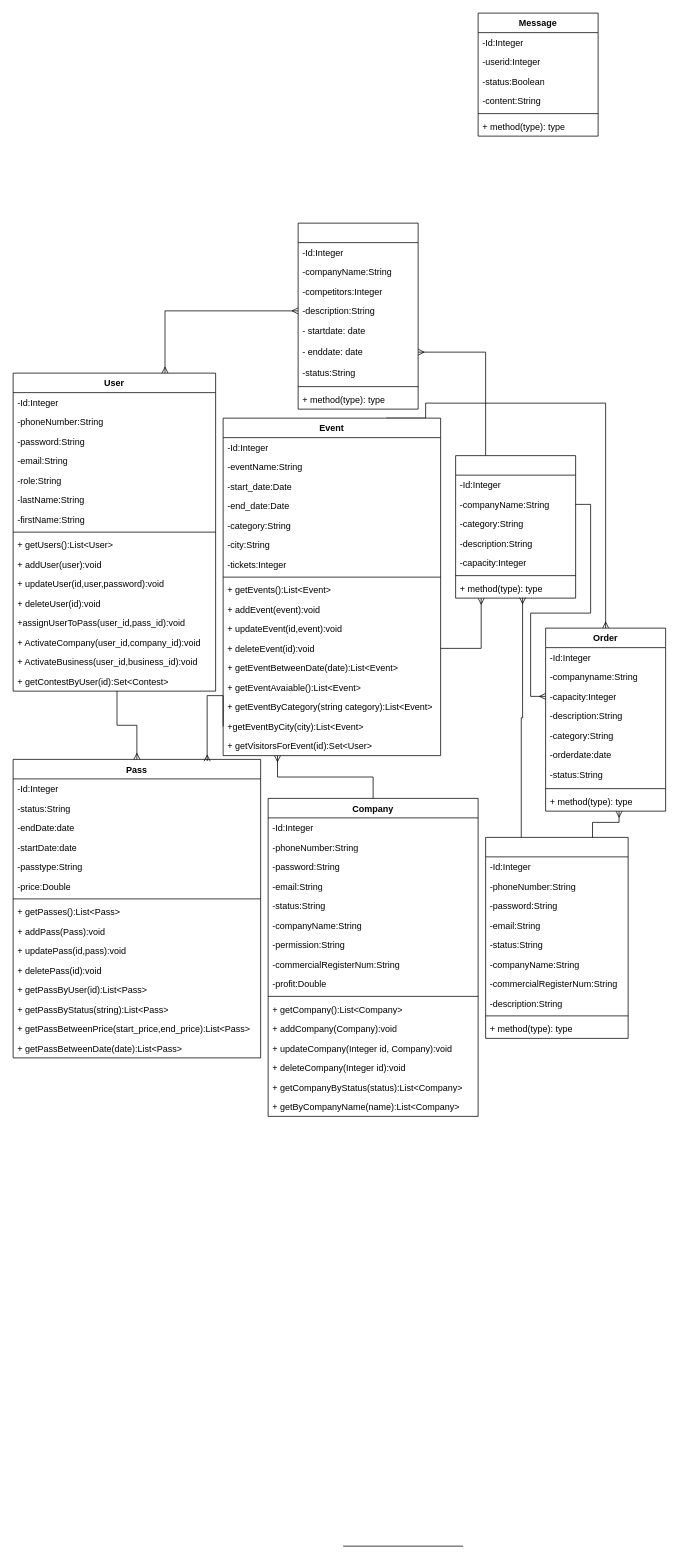
Some shapes in this 679 by 1562 pixel diagram are drawn without their labels. Here are the shapes that lost their labels. From the top down, the box of each, then its label:
(297, 222, 418, 409): Contest
(455, 455, 576, 598): Place
(485, 837, 628, 1038): Business
